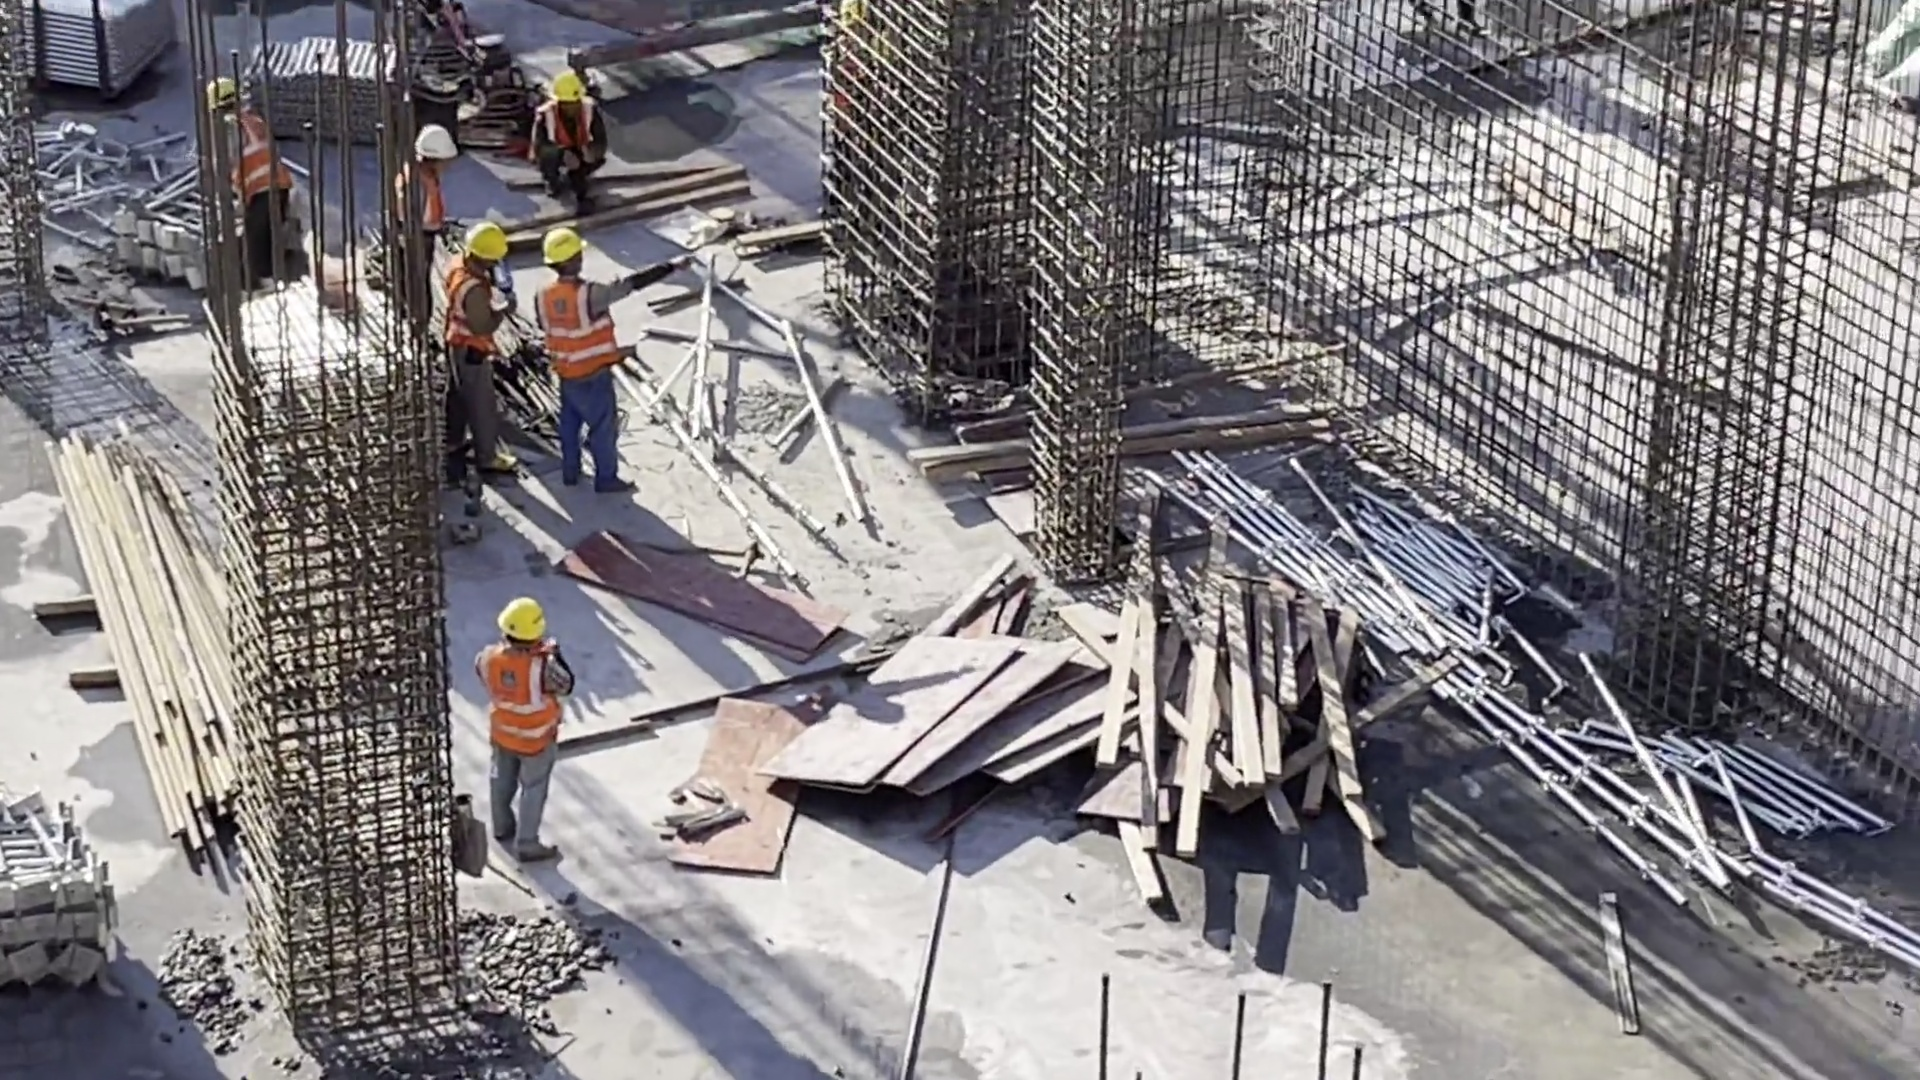board: (781, 636, 1094, 823)
helmet: (493, 595, 555, 637), (464, 212, 511, 264), (411, 124, 467, 163), (543, 223, 589, 257), (543, 68, 589, 102), (206, 76, 259, 104)
person: (533, 223, 685, 517), (462, 593, 566, 867), (201, 72, 319, 297), (443, 215, 528, 471), (378, 123, 466, 324), (528, 69, 611, 195)
scaffold: (1257, 454, 1639, 808), (106, 171, 329, 302), (5, 780, 138, 989), (17, 1, 190, 111)
vest: (475, 648, 564, 756), (426, 256, 512, 364), (534, 279, 621, 371), (218, 108, 307, 189), (395, 145, 454, 220), (545, 106, 615, 165)
wood: (1106, 512, 1397, 892)
